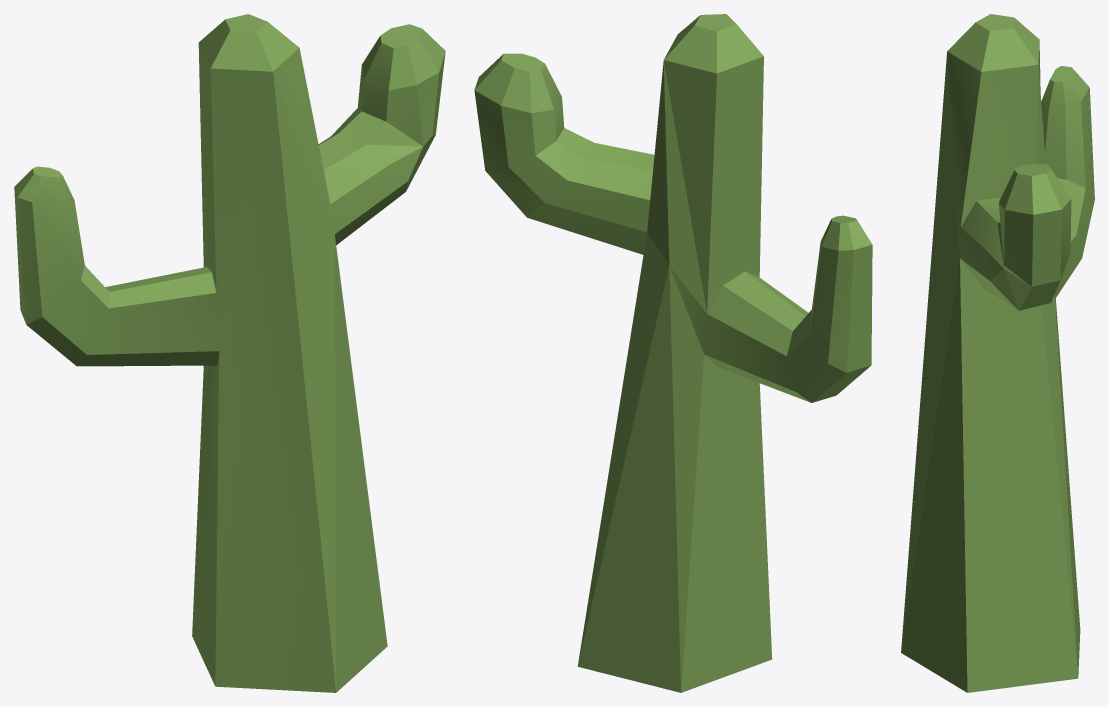
Rendered from Vegetation_Cactus_03.fbx.
3 views of the same model, side by side, from view 1: azimuth 30°, elevation 25°; view 2: azimuth 150°, elevation 25°; view 3: azimuth 270°, elevation 25° (orthographic). The views are drawn at different scales.
Parts seen in each view (by area): view 1: Vegetation_Cactus_03; view 2: Vegetation_Cactus_03; view 3: Vegetation_Cactus_03.
Part boxes in pixels (x1,y1,x2,y2): Vegetation_Cactus_03: (14,14,445,692); Vegetation_Cactus_03: (474,14,872,692); Vegetation_Cactus_03: (901,14,1094,692).
Size of the model in its own units: 45.64 by 67.89 by 19.52.
